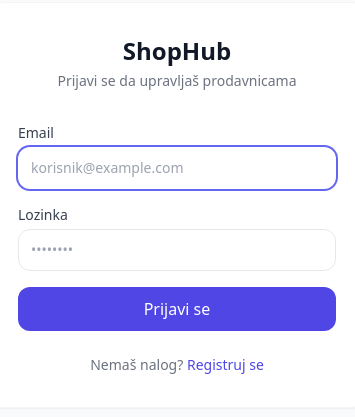
Test case: LoginPage › shows error message on failed login
Type "bad@example.com" into the field with placeholder "korisnik@example.com" at [177, 168], box [18,147,336,189]
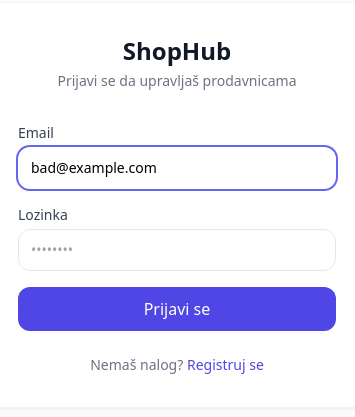
Type "wrong" into the password field with placeholder "••••••••" at [177, 250], box [18,229,336,271]
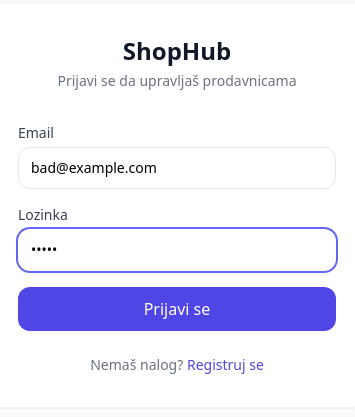
Click the button "Prijavi se" at [177, 309], box [18,287,336,331]
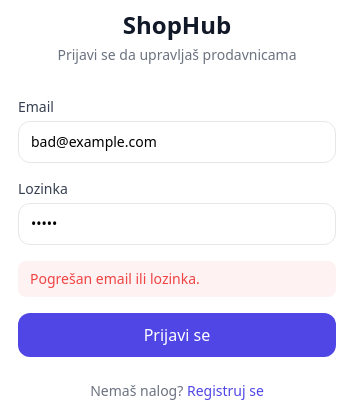
Expected: the text "Pogrešan email ili lozinka." is shown, [18,261,336,297]
